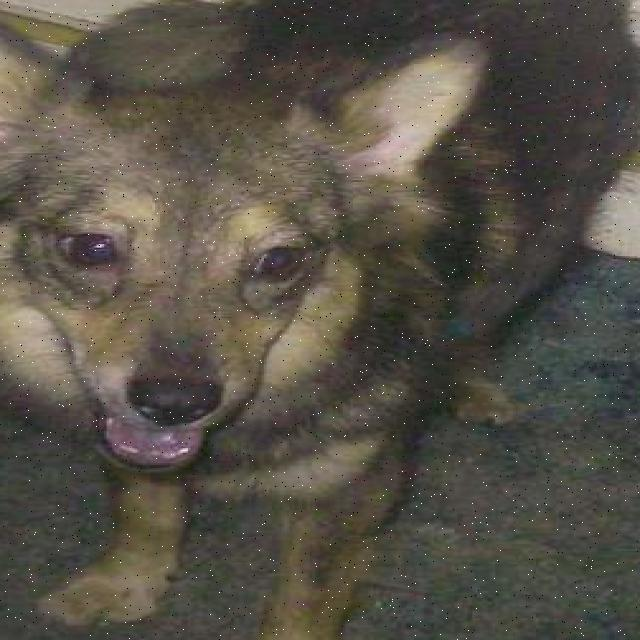Dog: (0, 0, 574, 483)
